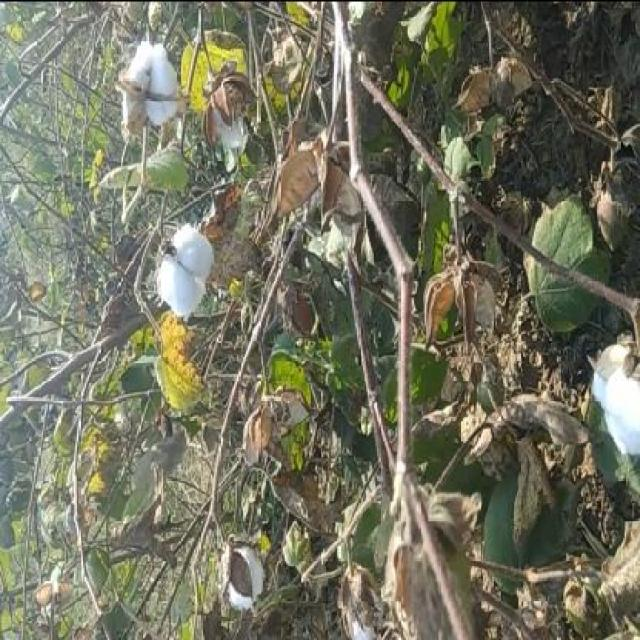cotton_ready: (586, 306, 640, 506), (150, 199, 224, 321), (105, 33, 188, 135), (209, 515, 289, 620)
